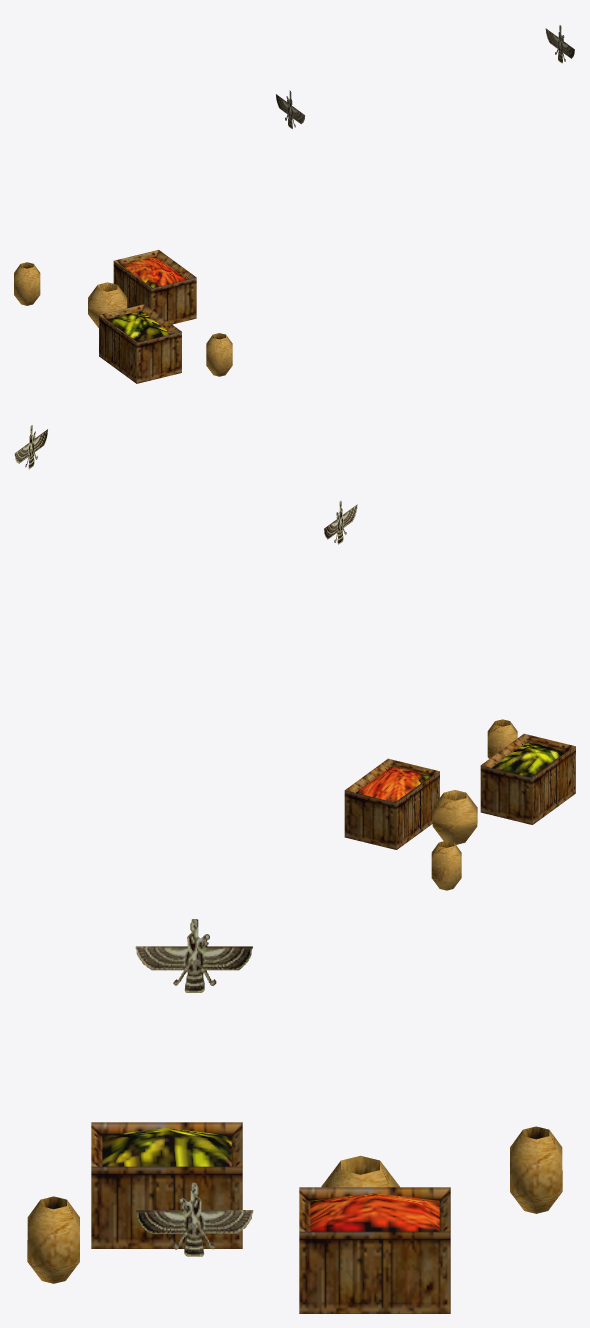
Rendered from pers_cc_props_a.dae.
3 views of the same model, one above another, from view 1: azimuth 30°, elevation 25°; view 2: azimuth 150°, elevation 25°; view 3: azimuth 270°, elevation 25° (orthographic). The views are drawn at different scales.
Visible parts, largest first — view 1: Object50-Pivot; view 2: Object50-Pivot; view 3: Object50-Pivot.
Boxes of the visible parts, x1,y1,x2,y2 form: Object50-Pivot: (14,25,574,383); Object50-Pivot: (14,425,575,890); Object50-Pivot: (27,919,562,1313).
Size of the model in its own units: 18.52 by 9.31 by 8.88.
